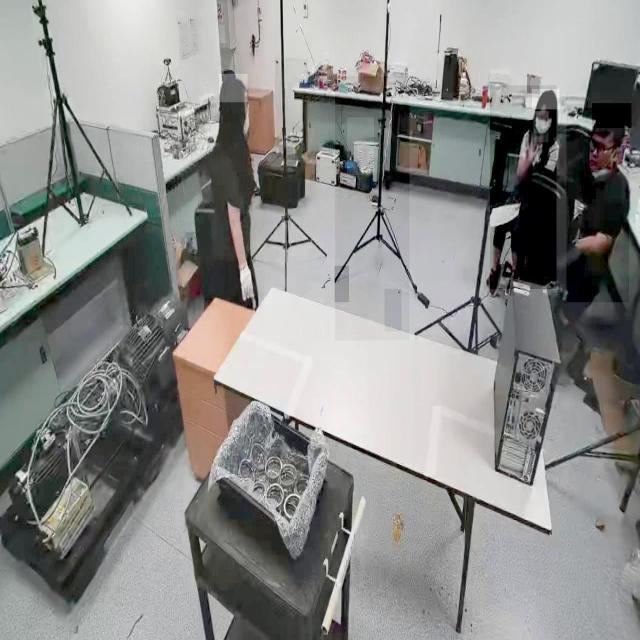face_mask: (534, 111, 548, 142)
face_nomask: (588, 132, 611, 170)
hand_glove: (238, 263, 256, 307)
hand_noglove: (523, 142, 539, 162)
head_nohelmet: (592, 103, 632, 129), (219, 74, 248, 103), (532, 89, 560, 110)
person: (490, 85, 557, 290), (566, 108, 630, 303), (212, 72, 260, 326)
